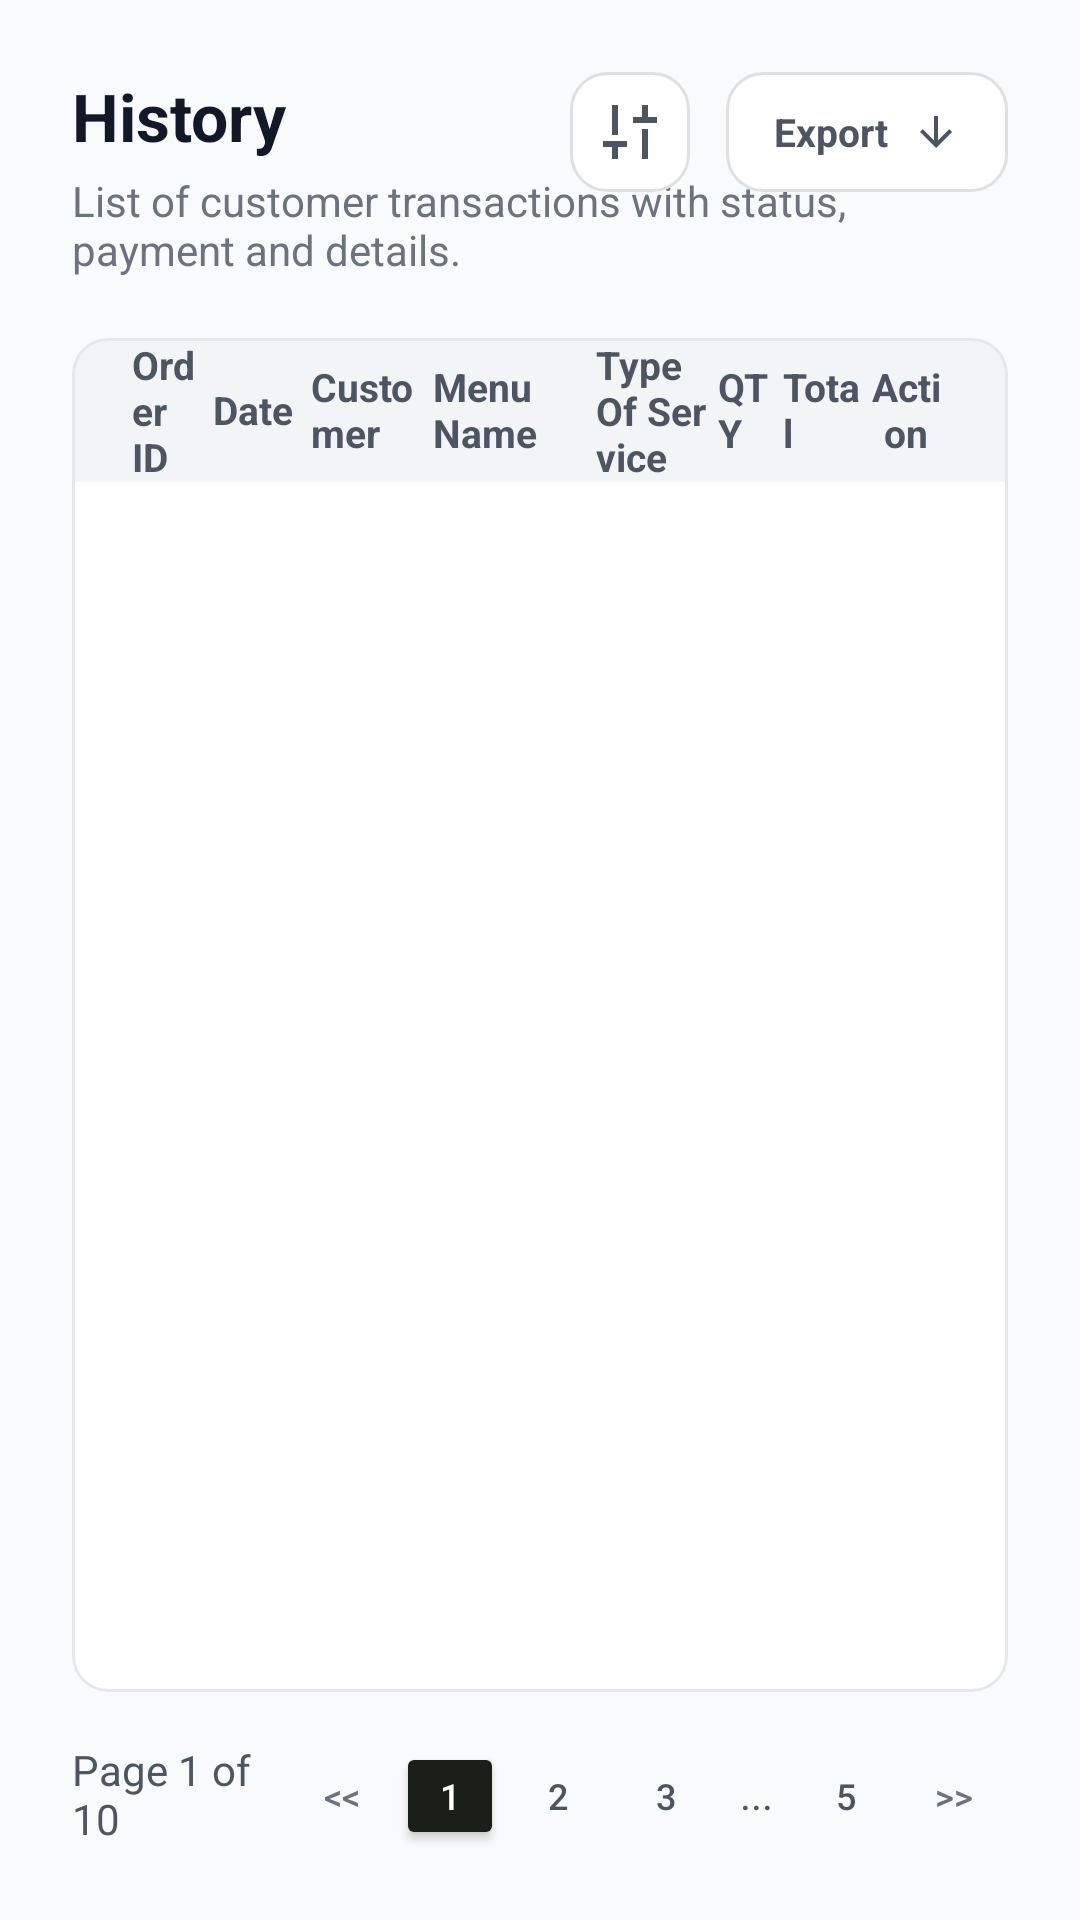

Icon bounding boxes for this 1080w x 1920h phone screenshot, format (x1, y1, x2, y2):
arrowdown: (920, 116, 952, 148)
Filter transactions: (570, 72, 690, 192)
